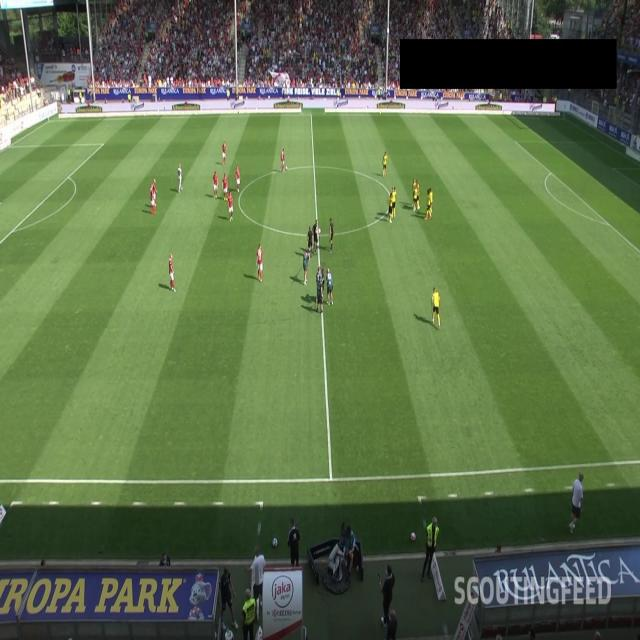ball: (318, 222, 322, 237)
player: (431, 285, 442, 331), (167, 250, 177, 292), (256, 243, 263, 281), (226, 188, 233, 225), (178, 162, 185, 193), (390, 186, 397, 214), (149, 184, 156, 210), (151, 176, 158, 202), (416, 178, 421, 212), (234, 163, 240, 191), (222, 138, 228, 164), (212, 172, 218, 197), (223, 172, 228, 200), (412, 178, 417, 206), (426, 192, 431, 219), (389, 191, 393, 222), (413, 187, 418, 211), (280, 148, 284, 176), (383, 150, 387, 177), (428, 187, 432, 214)
